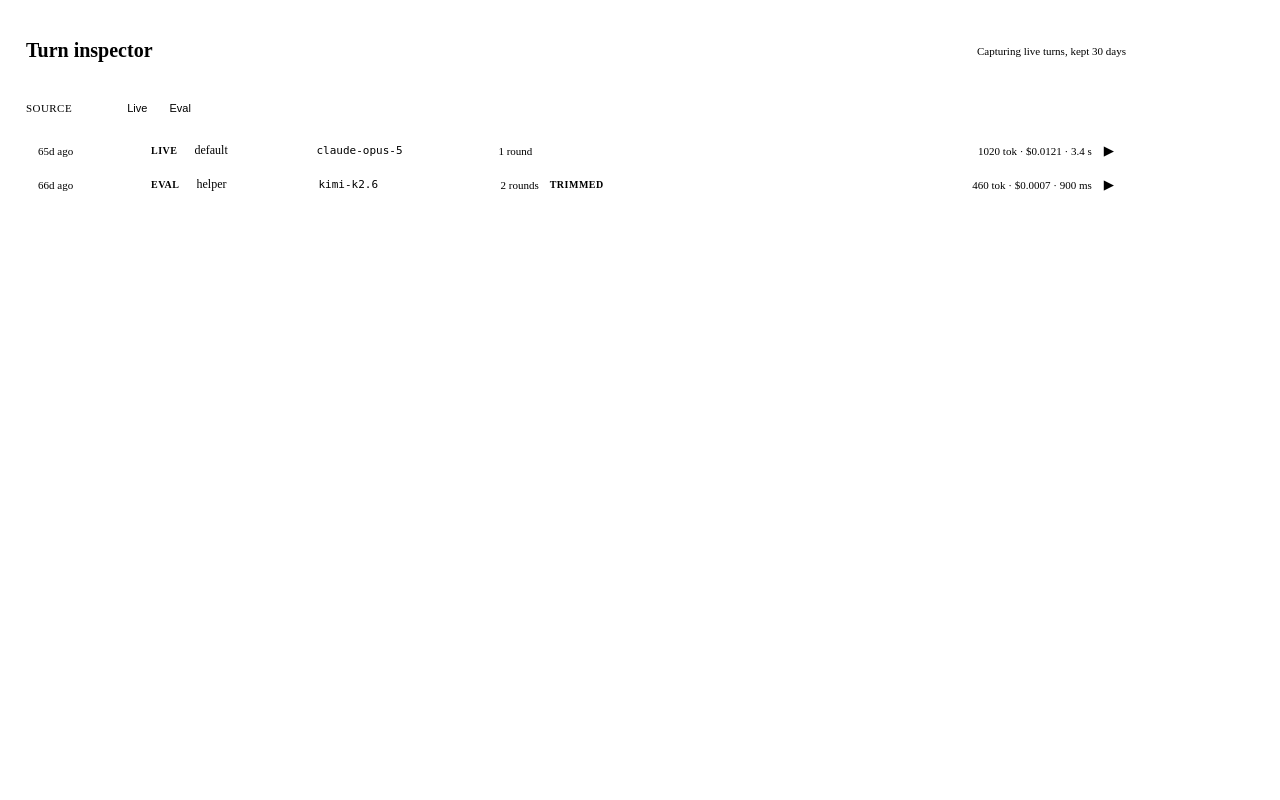
Test: Turn inspector — detail › a turn with no preceding context says so
Expected: the element with test id "trace-rows" is shown, top-left (26, 134), bottom-right (1126, 202)
Click the button with test id "trace-row" that starts with "65d ago". click: (56, 151)
box: top-left (26, 134), bottom-right (1126, 168)
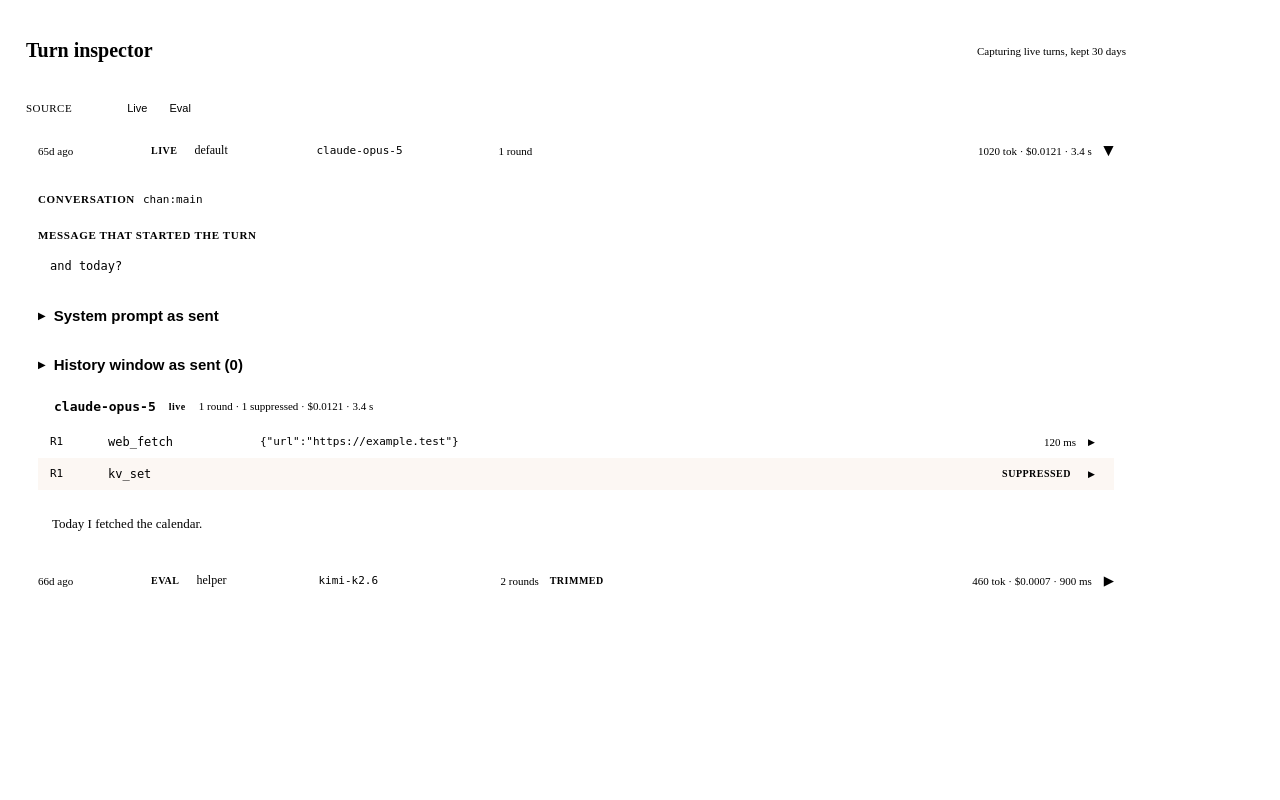
Expected: the button "▶ History window as sent (0)" is shown
Click the button "▶ History window as sent (0)". click: (148, 364)
box: top-left (38, 346), bottom-right (1114, 383)
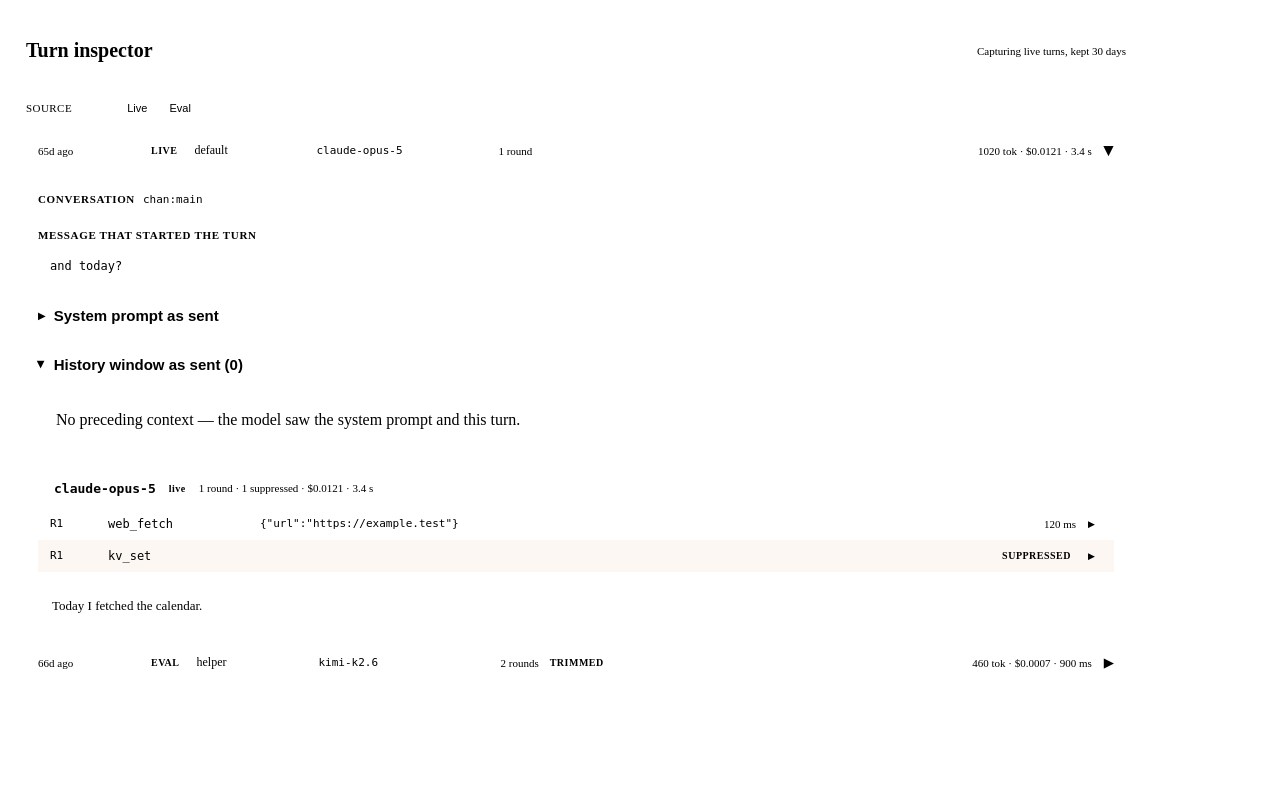
Expected: the text with test id "trace-history-empty" is shown, top-left (56, 411), bottom-right (520, 428)
